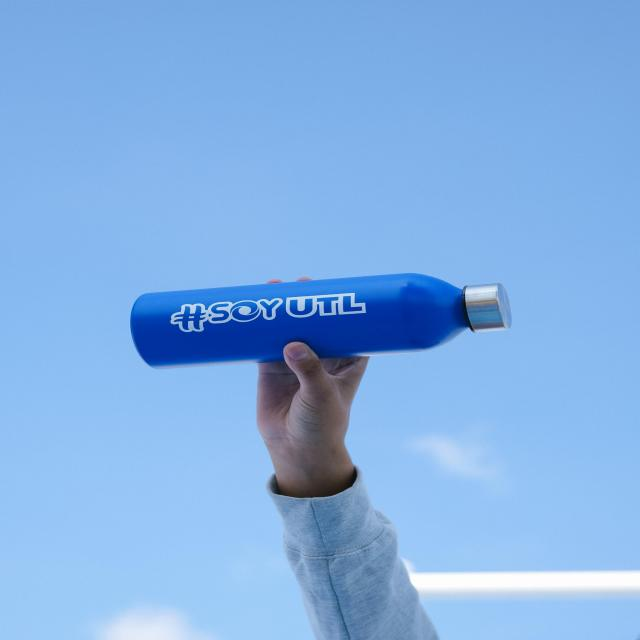blue_bottle: (132, 270, 531, 370)
